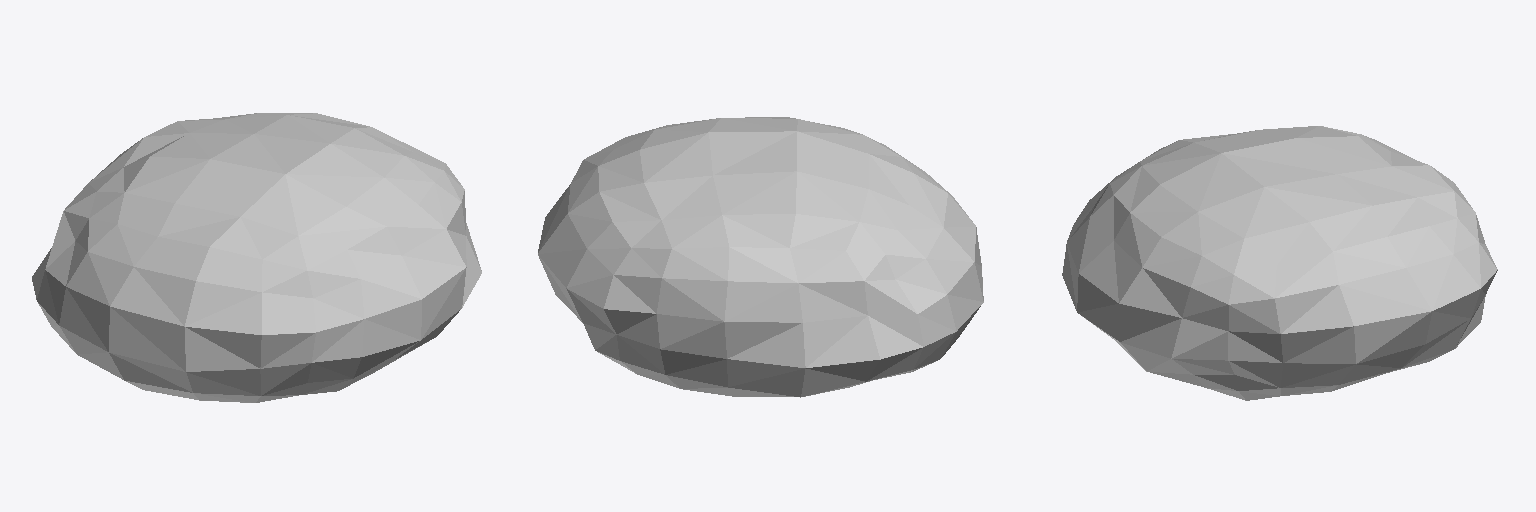
Rendered from rock7.obj.
The picture shows the model from 3 angles: view 1: azimuth 30°, elevation 25°; view 2: azimuth 150°, elevation 25°; view 3: azimuth 270°, elevation 25°; orthographic projection.
Visible parts, largest first — view 1: Mesh; view 2: Mesh; view 3: Mesh.
Boxes of the visible parts, x1,y1,x2,y2 form: Mesh: [32, 113, 481, 402]; Mesh: [538, 117, 983, 397]; Mesh: [1062, 126, 1497, 400].
Bounding box in the file's own units: 3.89 × 1.99 × 3.8.